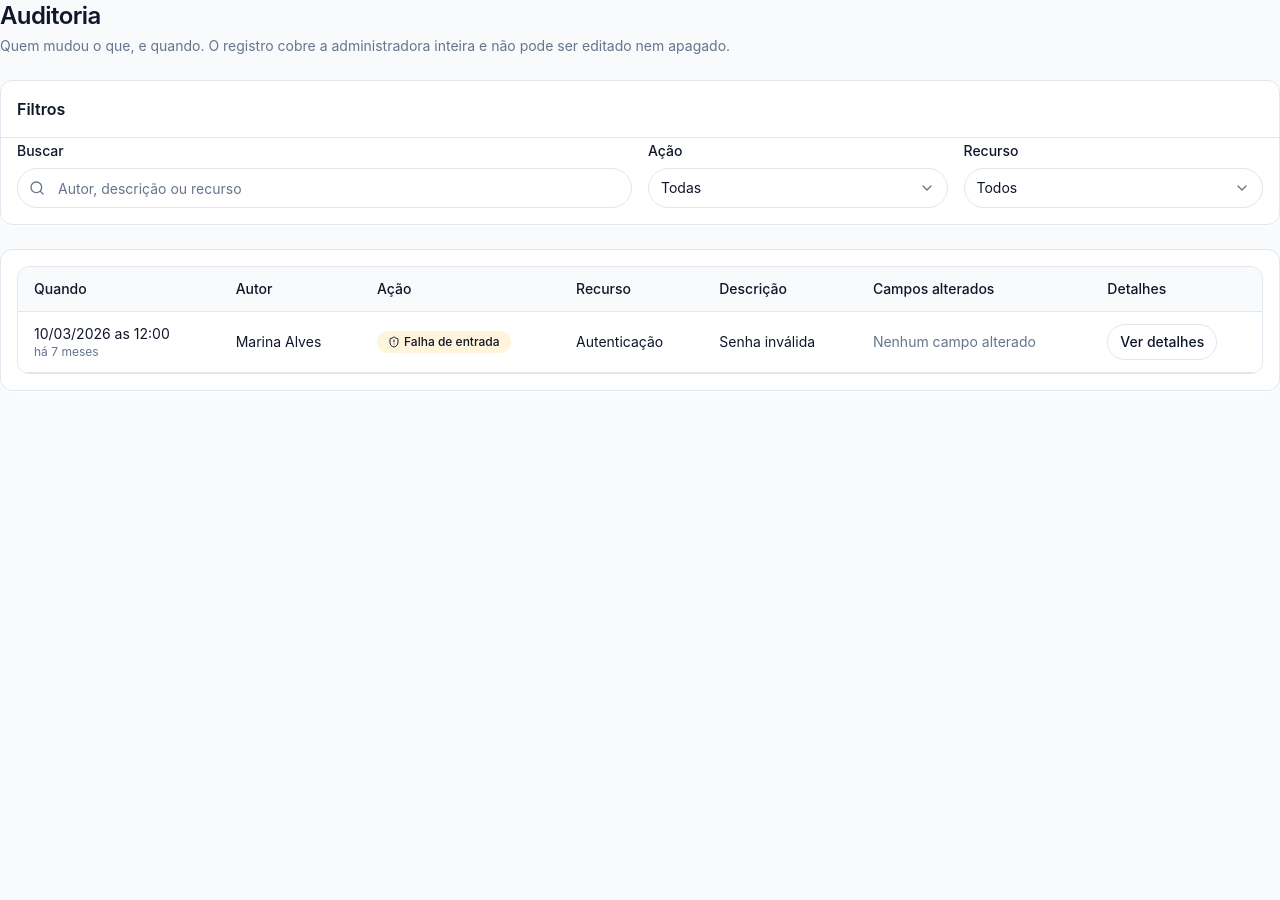
Test case: Histórico de um registro › ação sem registro alvo não consulta histórico nenhum
Click the button with aria-label "Ver detalhes de Falha de entrada".
click(1162, 342)  # box x1=1107 y1=324 x2=1217 y2=360
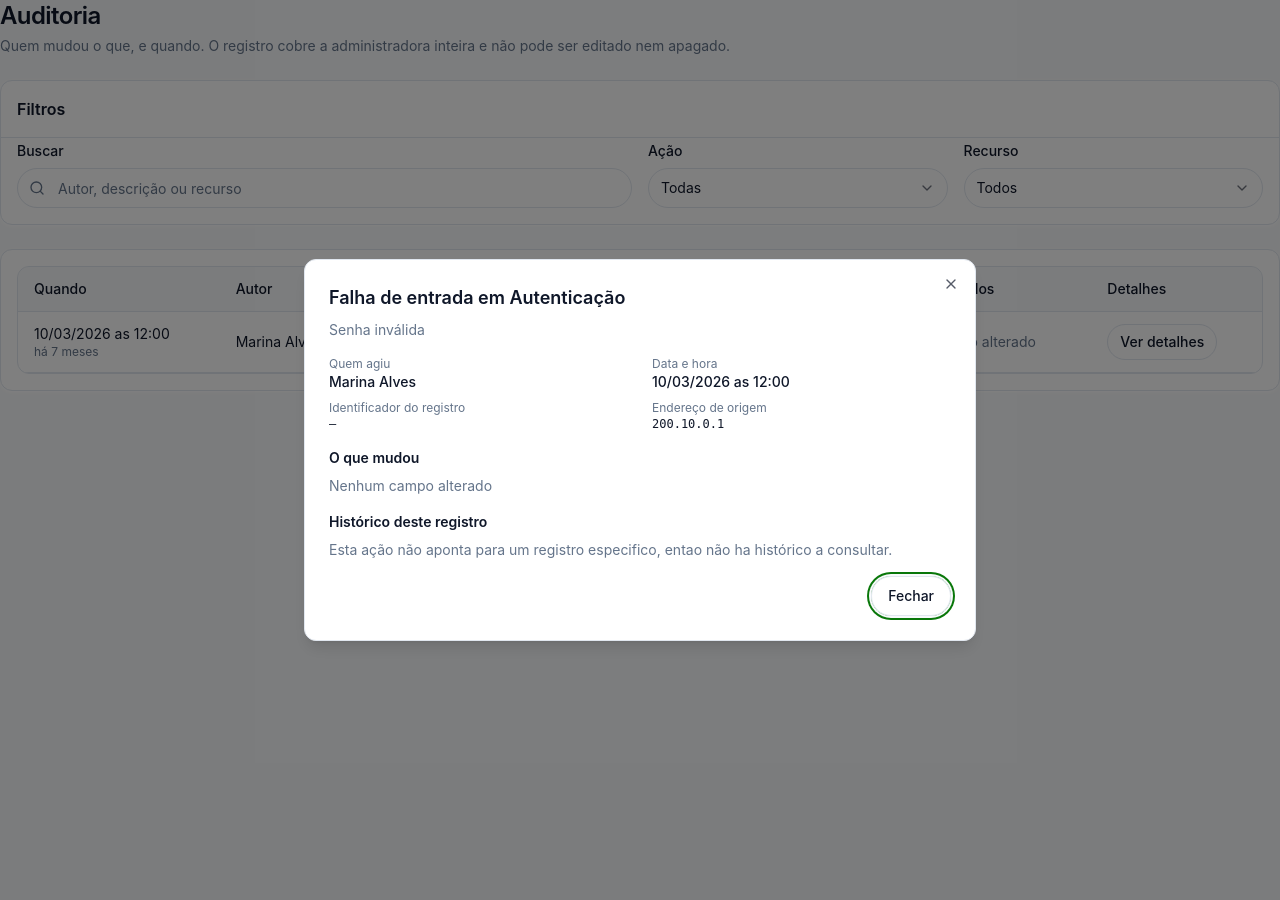
Check: the text "não aponta para um registro especifico" is shown, box x1=329 y1=541 x2=892 y2=558
